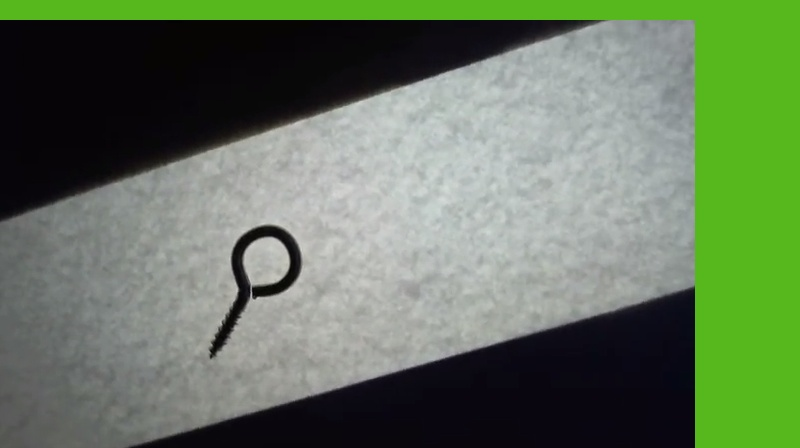O001: (205, 218, 307, 364)
